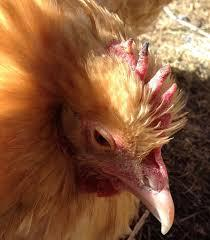AbNormal: (112, 34, 177, 152)
